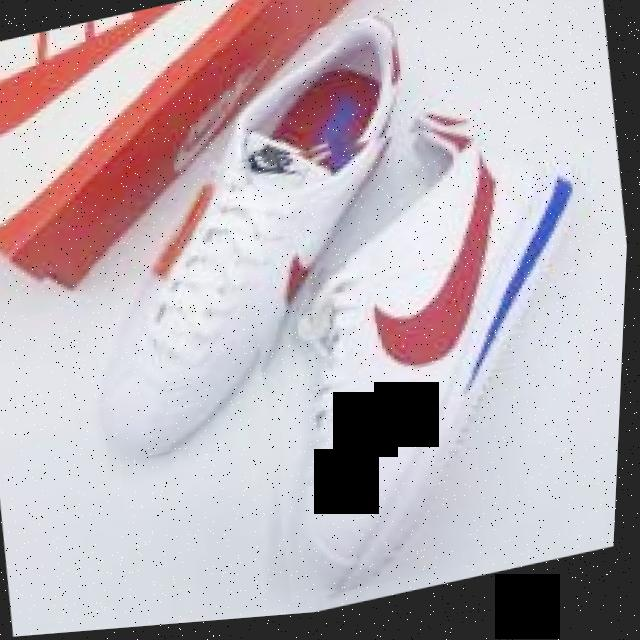shoe: (53, 0, 639, 635), (221, 97, 628, 615)
